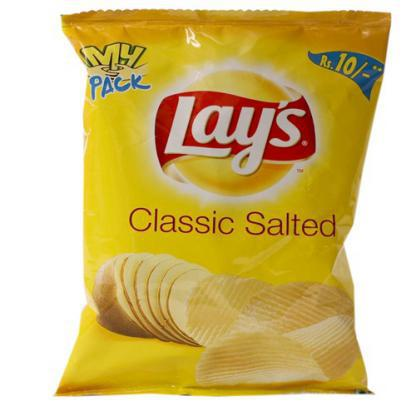classicsalted: (53, 8, 390, 395)
